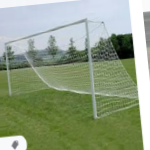goals: (3, 16, 137, 124)
